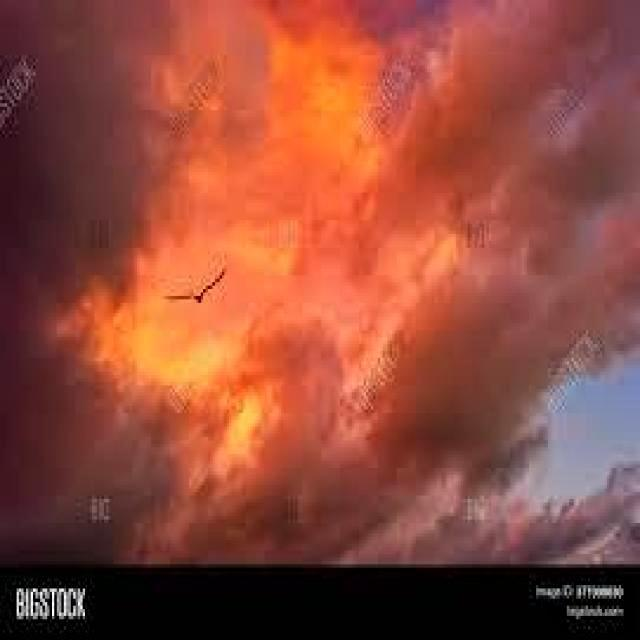bird: (164, 262, 228, 310)
